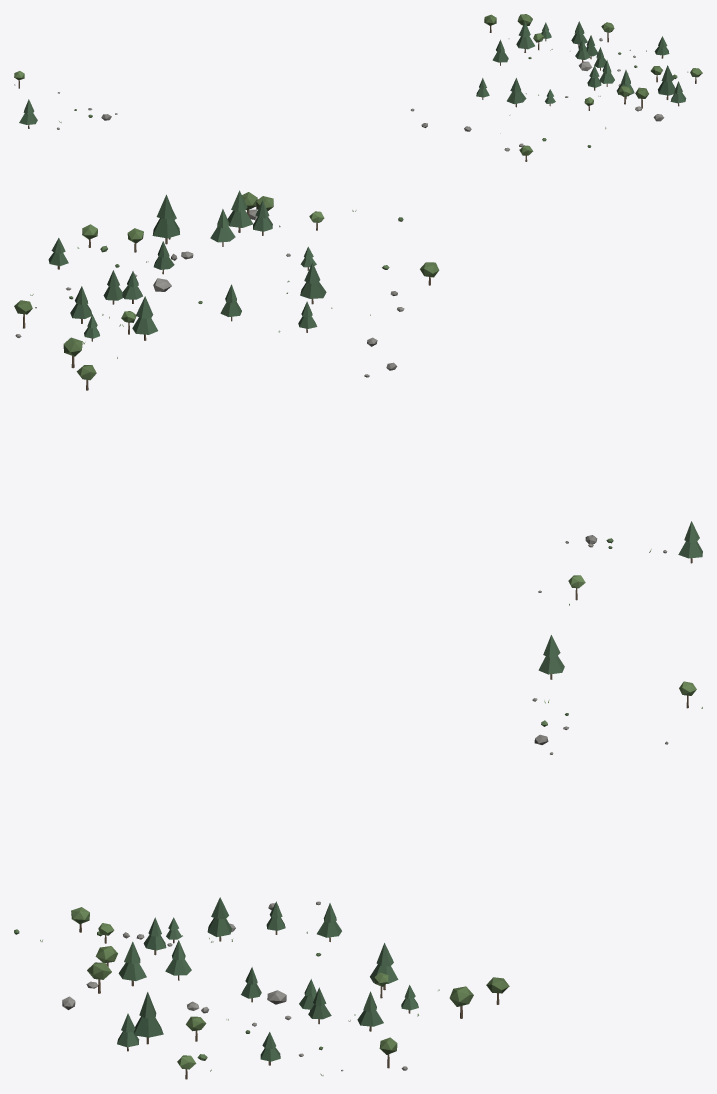
The model's file is arch_land_scatter_c19_18_lod1.glb.
3 renders of one model, top to bottom at view 1: azimuth 30°, elevation 25°; view 2: azimuth 150°, elevation 25°; view 3: azimuth 270°, elevation 25°, orthographic. The views are drawn at different scales.
Visible parts, largest first — view 1: arch_land_scatter_c19_18_lod1; view 2: arch_land_scatter_c19_18_lod1; view 3: arch_land_scatter_c19_18_lod1.
Boxes of the visible parts, x1=… form: arch_land_scatter_c19_18_lod1: x1=14, y1=14, x2=702, y2=161; arch_land_scatter_c19_18_lod1: x1=14, y1=190, x2=702, y2=605; arch_land_scatter_c19_18_lod1: x1=14, y1=635, x2=702, y2=1079.
Bounding box in the file's own units: 247 × 26.8 × 175.
